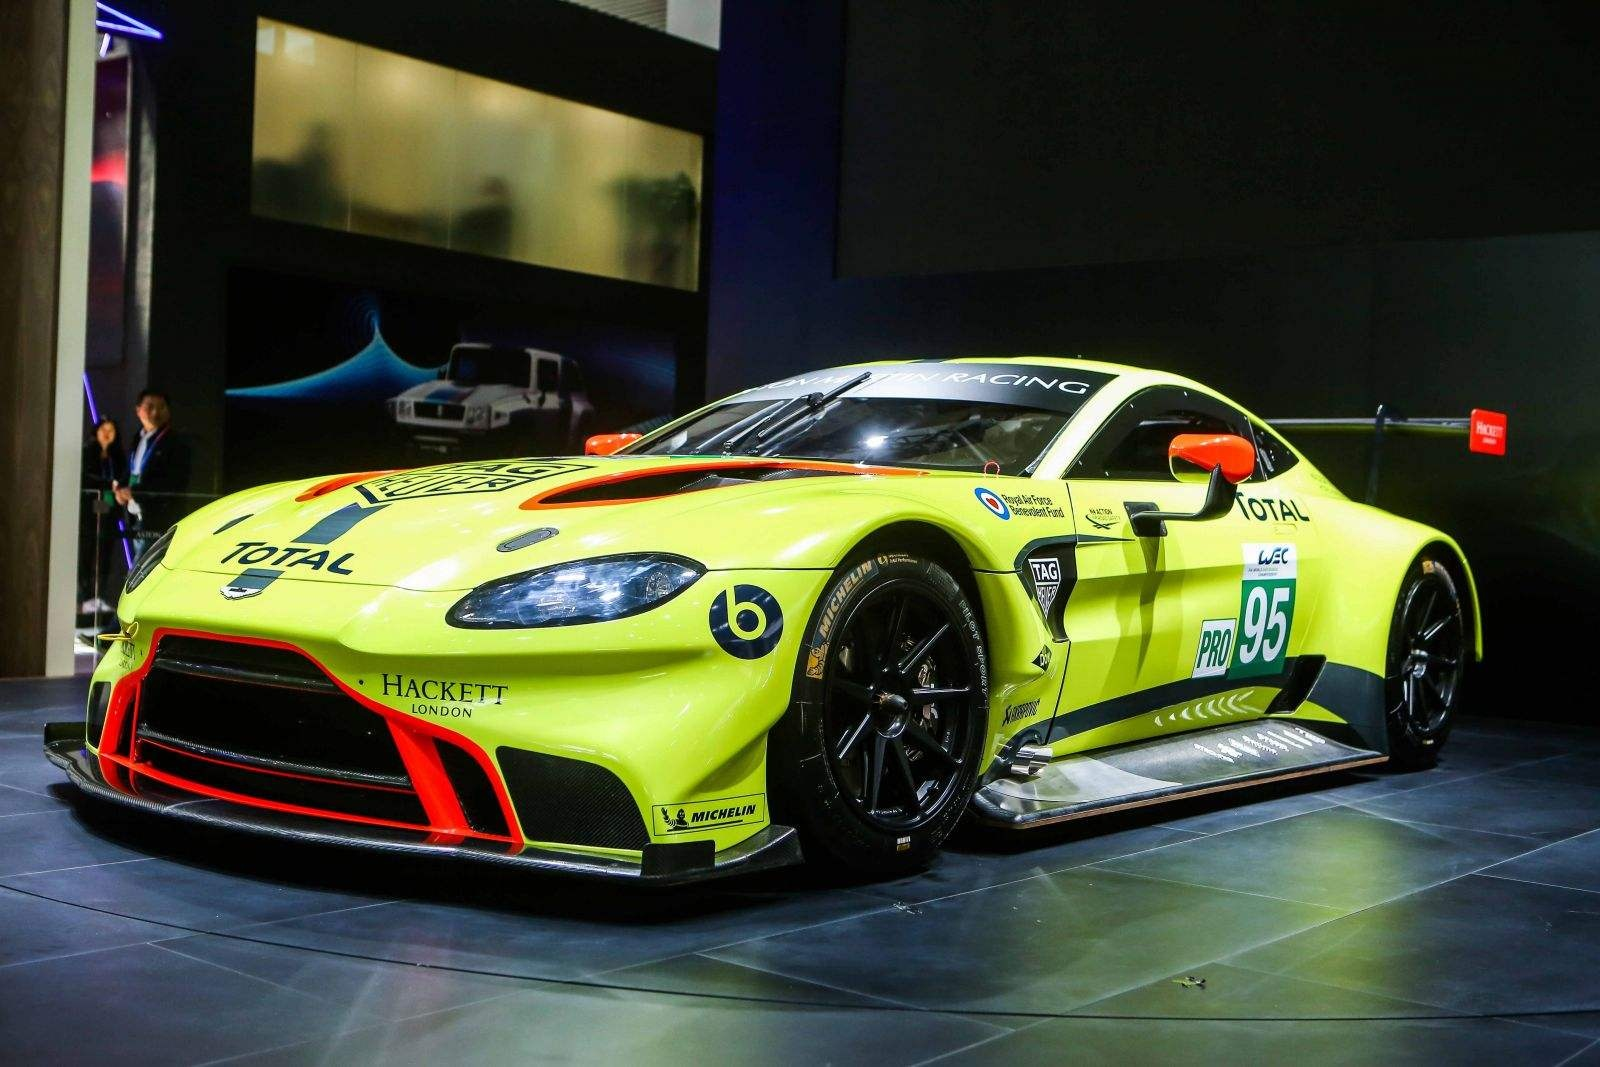racing car: (63, 299, 1531, 916)
